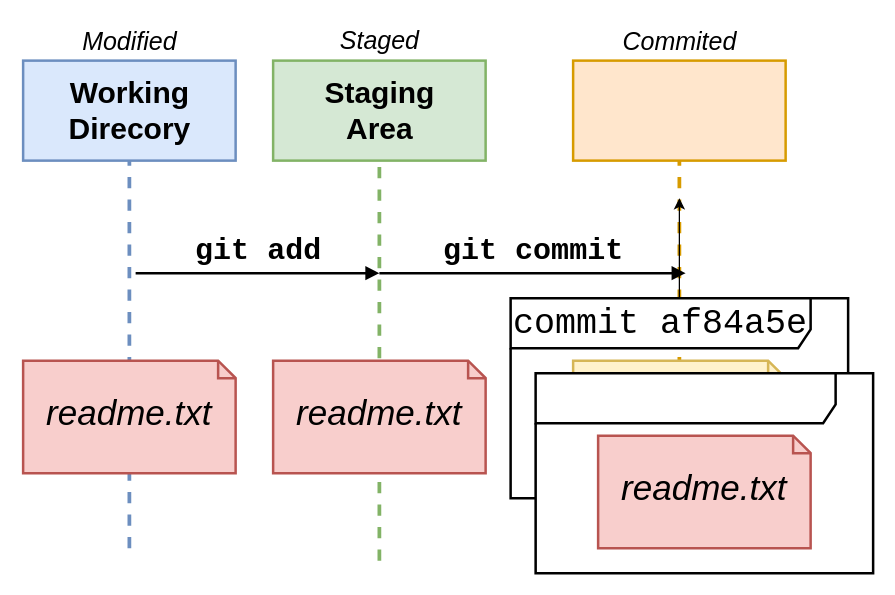
This 895x595 diagram has some shape labels left out. The box of each missing label's shape, as (x1, y1, x2, y2) in pixels:
.git Directory (Repository): (571, 59, 786, 161)
commit 3d6f93c: (534, 371, 874, 574)
